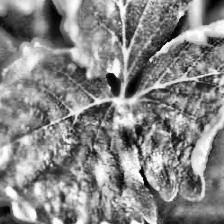Powdery Mildew Leaf: (0, 37, 157, 224), (128, 0, 224, 202), (50, 0, 214, 87)
